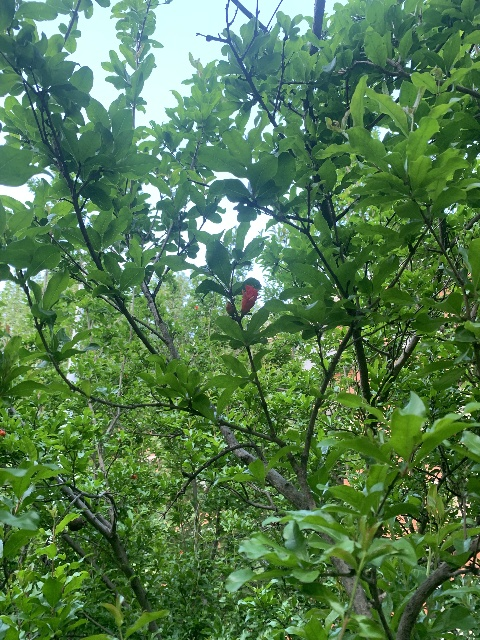bud: (225, 300, 233, 315)
flower: (240, 283, 261, 313), (0, 428, 6, 436), (130, 474, 137, 478), (194, 305, 198, 309)
